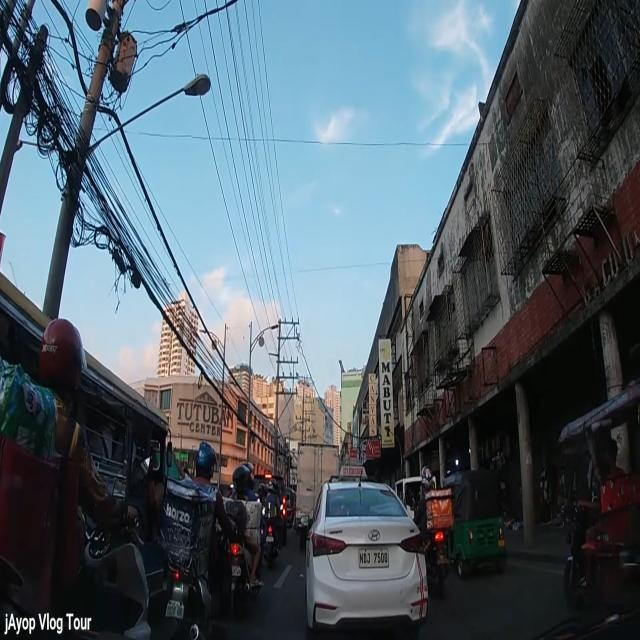car: (305, 466, 428, 638)
jeepney: (1, 262, 171, 632)
motorcycle: (0, 316, 152, 640), (158, 441, 239, 640), (222, 460, 264, 614), (410, 468, 452, 599), (260, 482, 279, 570)
tricycle: (558, 377, 640, 610), (440, 468, 508, 580)
truck: (296, 441, 341, 544)
